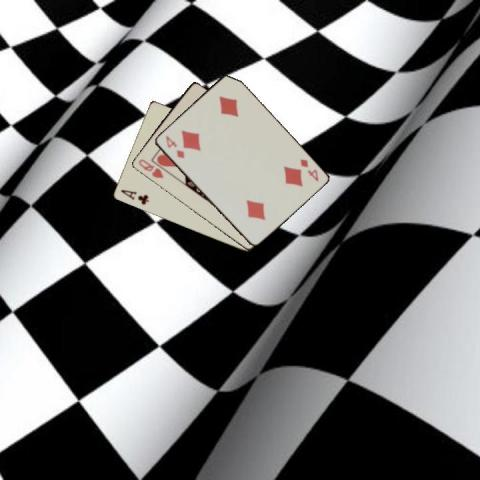4d: (162, 133, 185, 160), (297, 156, 320, 183)
Ac: (117, 187, 150, 206)
Qh: (135, 156, 165, 180)
